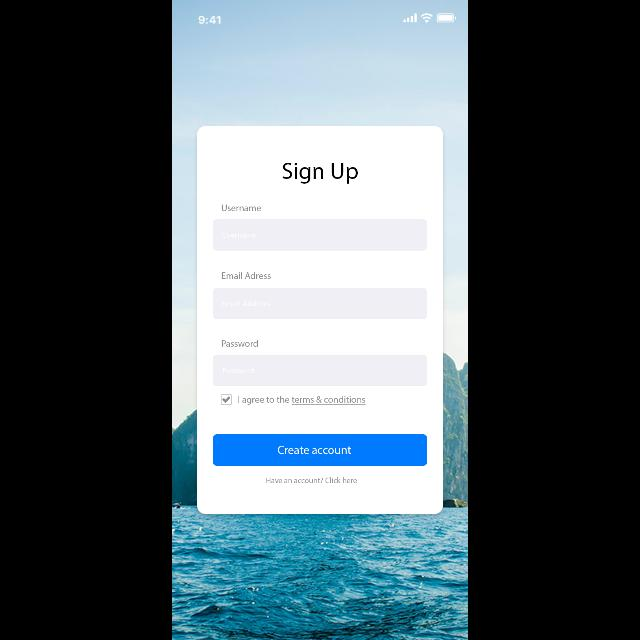checkbox: (221, 394, 231, 404)
input: (213, 288, 427, 320), (214, 356, 428, 386), (214, 220, 426, 250)
text: (284, 163, 358, 184), (238, 396, 366, 404), (266, 477, 358, 483), (222, 272, 272, 280), (222, 204, 262, 212), (222, 300, 270, 306), (222, 340, 258, 348), (223, 366, 254, 374), (224, 232, 256, 238)
textbutton: (213, 434, 427, 466)
uppertaskbar: (199, 13, 457, 24)
